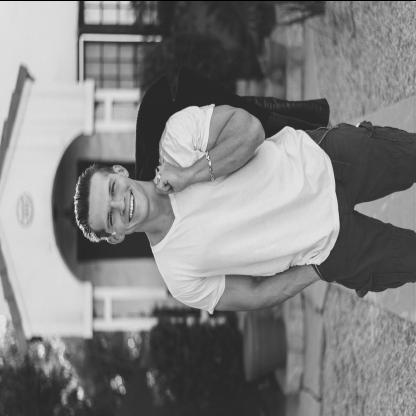Eye: (109, 209, 115, 226), (111, 181, 116, 198)
Mouth: (128, 188, 136, 223)
Nose: (111, 195, 127, 215)
